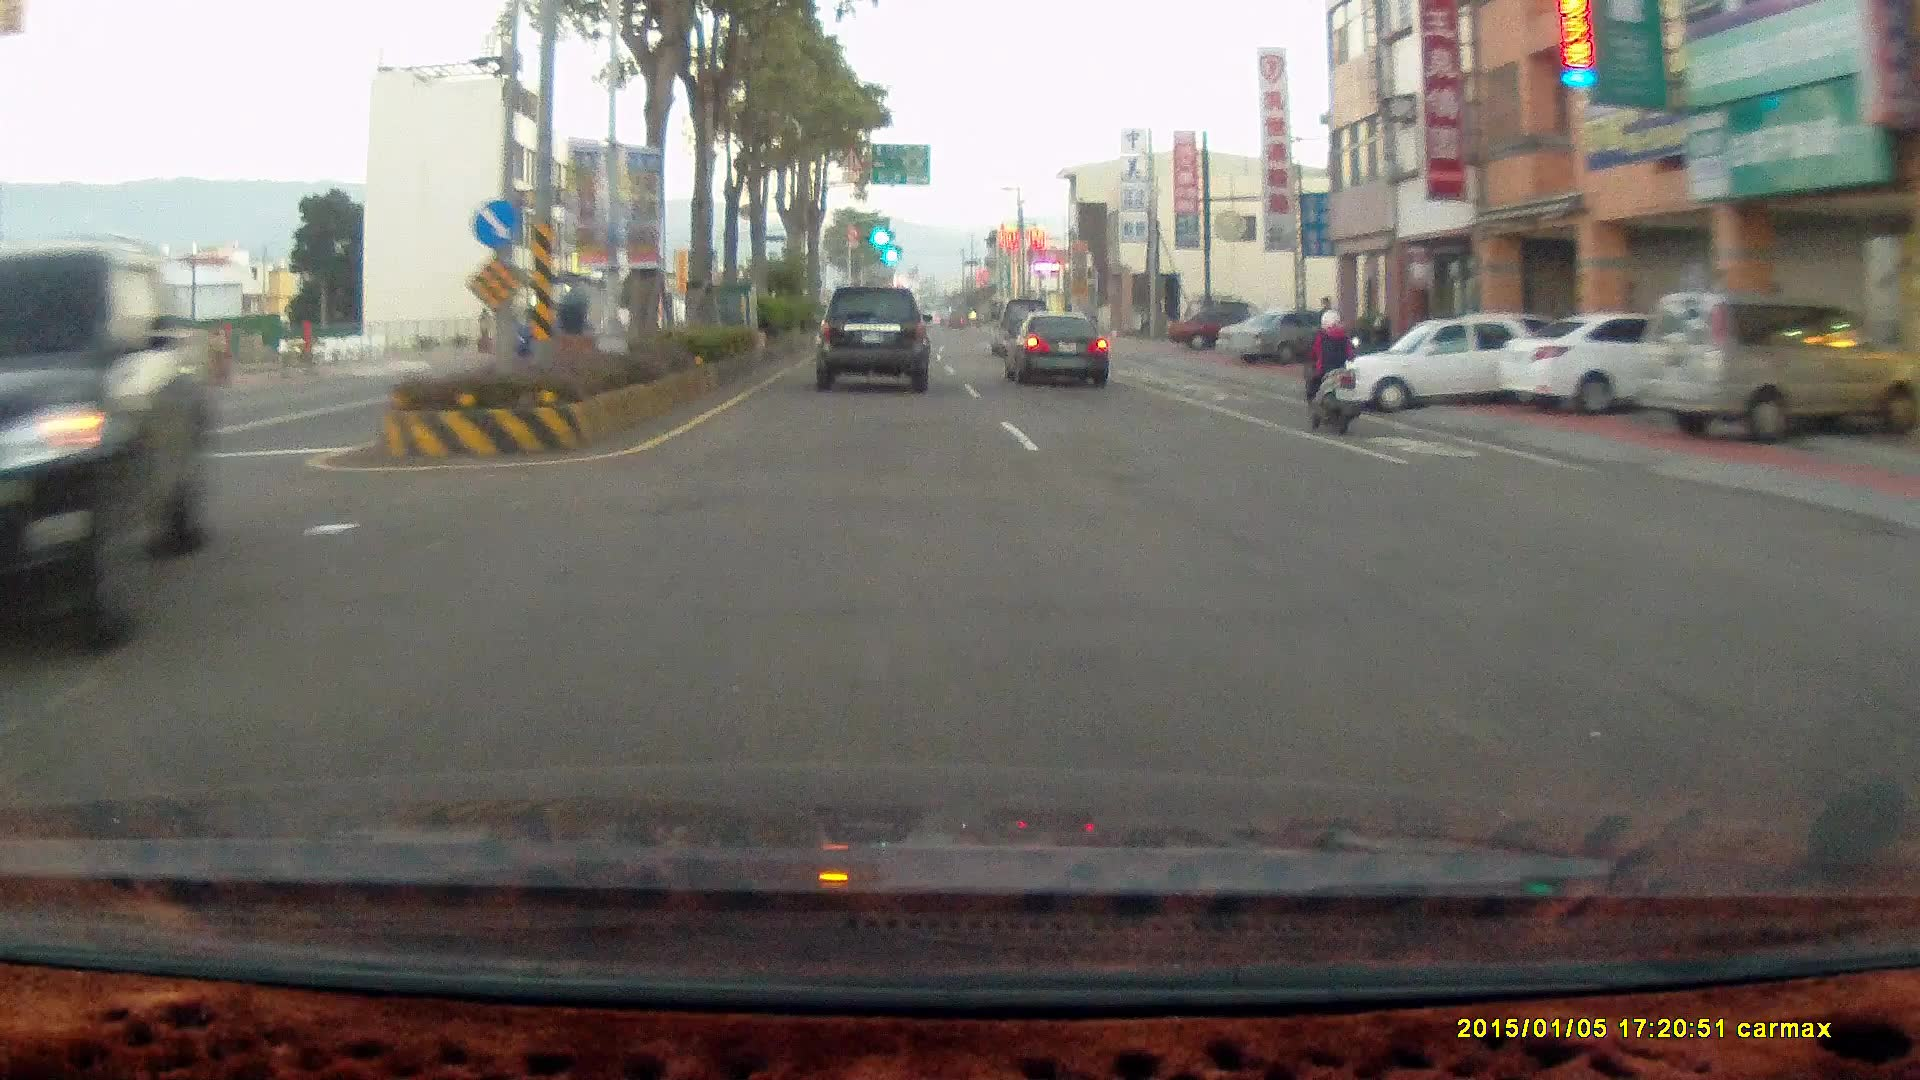rider: (1291, 299, 1374, 443), (1297, 302, 1362, 430)
vehicle: (1, 241, 223, 654), (1, 241, 222, 654), (1635, 288, 1914, 443), (1637, 289, 1909, 446), (1496, 307, 1747, 414), (1328, 310, 1584, 412), (1328, 311, 1558, 415), (1495, 306, 1707, 413), (812, 283, 936, 391), (812, 282, 932, 389), (1007, 311, 1117, 387), (1218, 301, 1351, 360), (1003, 310, 1107, 387), (1217, 310, 1350, 367), (1168, 306, 1283, 350), (989, 291, 1054, 350)
